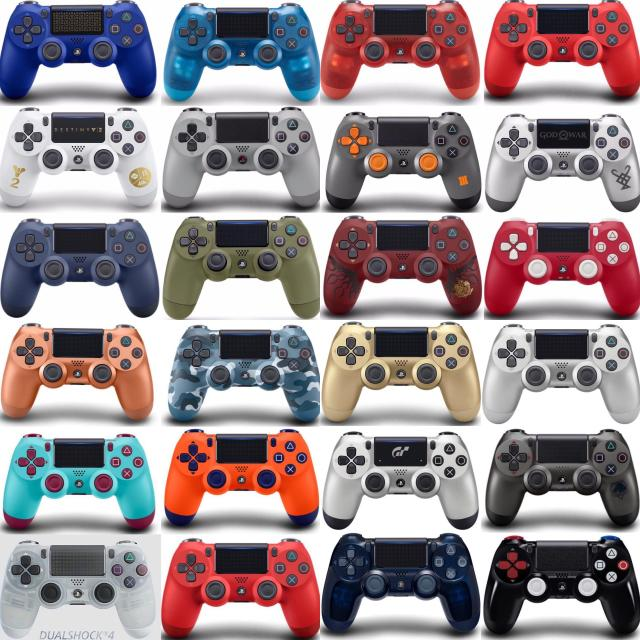ps4_controller: (164, 217, 328, 321), (482, 534, 640, 640), (165, 0, 323, 104), (321, 0, 478, 101), (169, 320, 324, 420), (0, 0, 158, 97), (324, 427, 470, 523)
